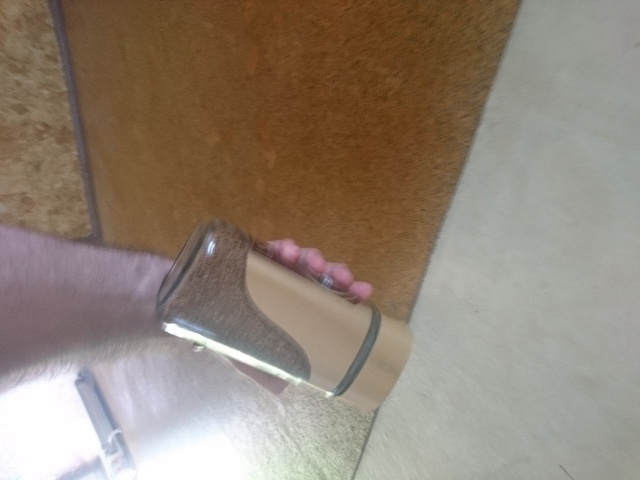Nescafe Gold 225g: (152, 214, 417, 414)
